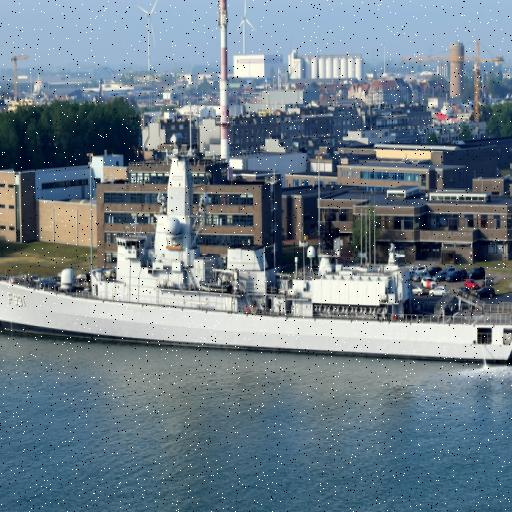Fragata: (1, 116, 512, 372)
